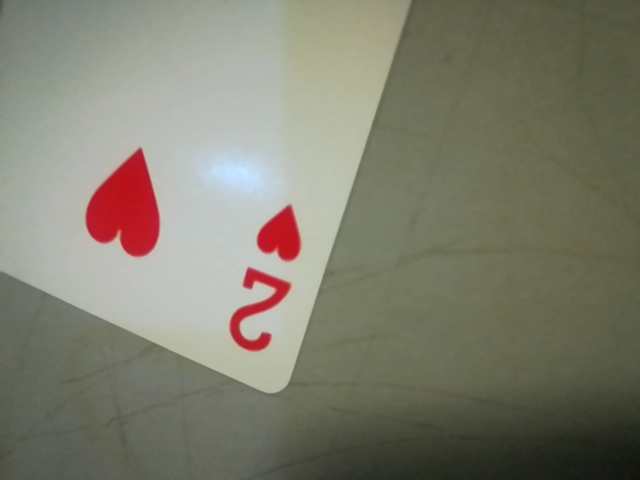hx 2: (215, 189, 317, 372)
